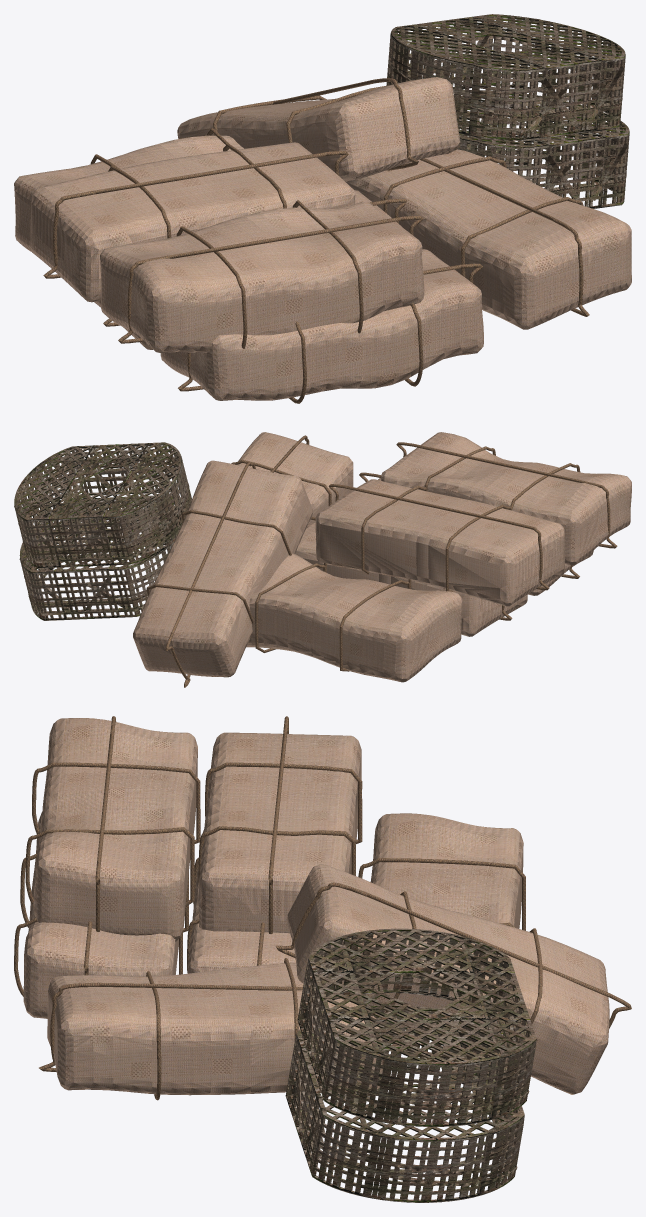
Rendered from 货物堆02.fbx.
3 renders of one model, top to bottom at view 1: azimuth 30°, elevation 25°; view 2: azimuth 150°, elevation 25°; view 3: azimuth 270°, elevation 25°, orthographic. The views are drawn at different scales.
Visible parts, largest first — view 1: qingmo_obj_878 [5247217], qingmo_obj_867 [5247184], qingmo_obj_875 [5247208], qingmo_obj_882 [10483598], qingmo_obj_873 [5247202], qingmo_obj_862 [5247169], qingmo_obj_086 [10483724], qingmo_obj_880 [5247223], qingmo_obj_877 [5247214], qingmo_obj_874 [5247205], qingmo_obj_879 [5247220], qingmo_obj_865 [5247178] (+6 smaller); view 2: qingmo_obj_862 [5247169], qingmo_obj_875 [5247208], qingmo_obj_882 [10483598], qingmo_obj_880 [5247223], qingmo_obj_878 [5247217], qingmo_obj_086 [10483724], qingmo_obj_867 [5247184], qingmo_obj_868 [5247187], qingmo_obj_877 [5247214], qingmo_obj_874 [5247205], qingmo_obj_881 [5247226], qingmo_obj_871 [5247196] (+3 smaller); view 3: qingmo_obj_882 [10483598], qingmo_obj_878 [5247217], qingmo_obj_867 [5247184], qingmo_obj_875 [5247208], qingmo_obj_862 [5247169], qingmo_obj_086 [10483724], qingmo_obj_880 [5247223], qingmo_obj_873 [5247202], qingmo_obj_868 [5247187], qingmo_obj_879 [5247220], qingmo_obj_876 [5247211], qingmo_obj_871 [5247196] (+7 smaller).
Part boxes in pixels (box(x1,y1,x2,y2)): qingmo_obj_878 [5247217]: box(100, 201, 424, 352); qingmo_obj_867 [5247184]: box(345, 149, 631, 329); qingmo_obj_875 [5247208]: box(30, 142, 355, 302); qingmo_obj_882 [10483598]: box(386, 14, 625, 140); qingmo_obj_873 [5247202]: box(160, 249, 483, 400); qingmo_obj_862 [5247169]: box(177, 77, 460, 180); qingmo_obj_086 [10483724]: box(457, 93, 629, 208); qingmo_obj_880 [5247223]: box(14, 135, 243, 251); qingmo_obj_877 [5247214]: box(43, 151, 348, 278); qingmo_obj_874 [5247205]: box(118, 215, 423, 343); qingmo_obj_879 [5247220]: box(176, 200, 363, 348); qingmo_obj_865 [5247178]: box(383, 156, 583, 277); qingmo_obj_862 [5247169]: box(133, 460, 313, 677); qingmo_obj_875 [5247208]: box(315, 479, 564, 606); qingmo_obj_882 [10483598]: box(14, 442, 191, 568); qingmo_obj_880 [5247223]: box(246, 553, 462, 682); qingmo_obj_878 [5247217]: box(381, 432, 631, 565); qingmo_obj_086 [10483724]: box(19, 495, 185, 620); qingmo_obj_867 [5247184]: box(178, 432, 353, 530); qingmo_obj_868 [5247187]: box(295, 521, 527, 636); qingmo_obj_877 [5247214]: box(328, 484, 549, 590); qingmo_obj_874 [5247205]: box(396, 442, 617, 548); qingmo_obj_881 [5247226]: box(255, 563, 410, 671); qingmo_obj_871 [5247196]: box(165, 461, 255, 687); qingmo_obj_882 [10483598]: box(297, 928, 536, 1126); qingmo_obj_878 [5247217]: box(35, 718, 197, 941); qingmo_obj_867 [5247184]: box(47, 962, 382, 1095); qingmo_obj_875 [5247208]: box(199, 732, 361, 933); qingmo_obj_862 [5247169]: box(286, 864, 609, 1094); qingmo_obj_086 [10483724]: box(285, 1004, 524, 1202); qingmo_obj_880 [5247223]: box(370, 813, 523, 1029); qingmo_obj_873 [5247202]: box(23, 812, 178, 1018); qingmo_obj_868 [5247187]: box(187, 829, 295, 973); qingmo_obj_879 [5247220]: box(25, 762, 200, 906); qingmo_obj_876 [5247211]: box(198, 762, 362, 882); qingmo_obj_871 [5247196]: box(275, 882, 631, 1028).
Bounding box in the file's own units: 20.05 × 16.11 × 5.99.
Materials: 3 (3 with a texture image).
